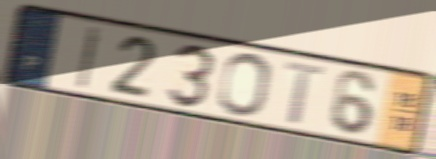2: (110, 33, 159, 100)
3: (163, 42, 216, 110)
6: (328, 68, 379, 139)
I: (75, 23, 105, 92)
O: (215, 51, 273, 120)
T: (282, 58, 327, 127)
